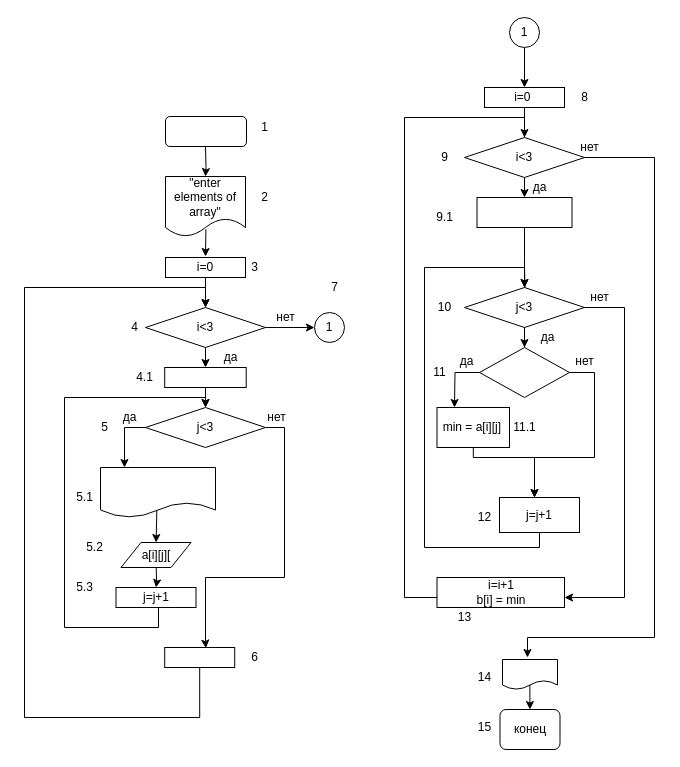
The diagram is 680 pixels wide and 767 high, and some of its shapes have lost their labels. The box of each missing label's shape, as (x1, y1, x2, y2) in pixels:
"element [", i + 1, "][", j + 1, "] = ": (100, 466, 216, 518)
a[i][j] <= min: (478, 346, 570, 398)
b[i]: (502, 658, 558, 690)
i=i+1: (164, 646, 235, 668)
j=0: (164, 366, 246, 388)
min = a[i][0] j=0: (476, 196, 572, 228)
начало: (164, 116, 246, 146)
